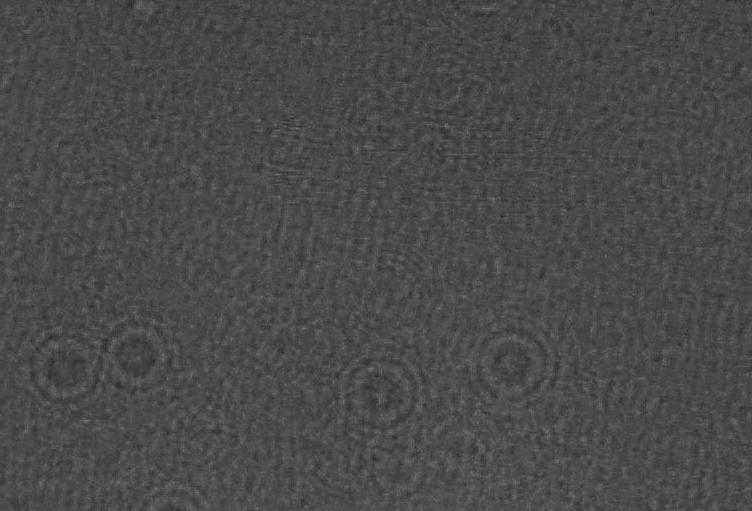bead: (93, 307, 197, 411), (317, 337, 429, 433), (458, 316, 564, 405), (15, 322, 102, 409), (115, 472, 230, 511)
